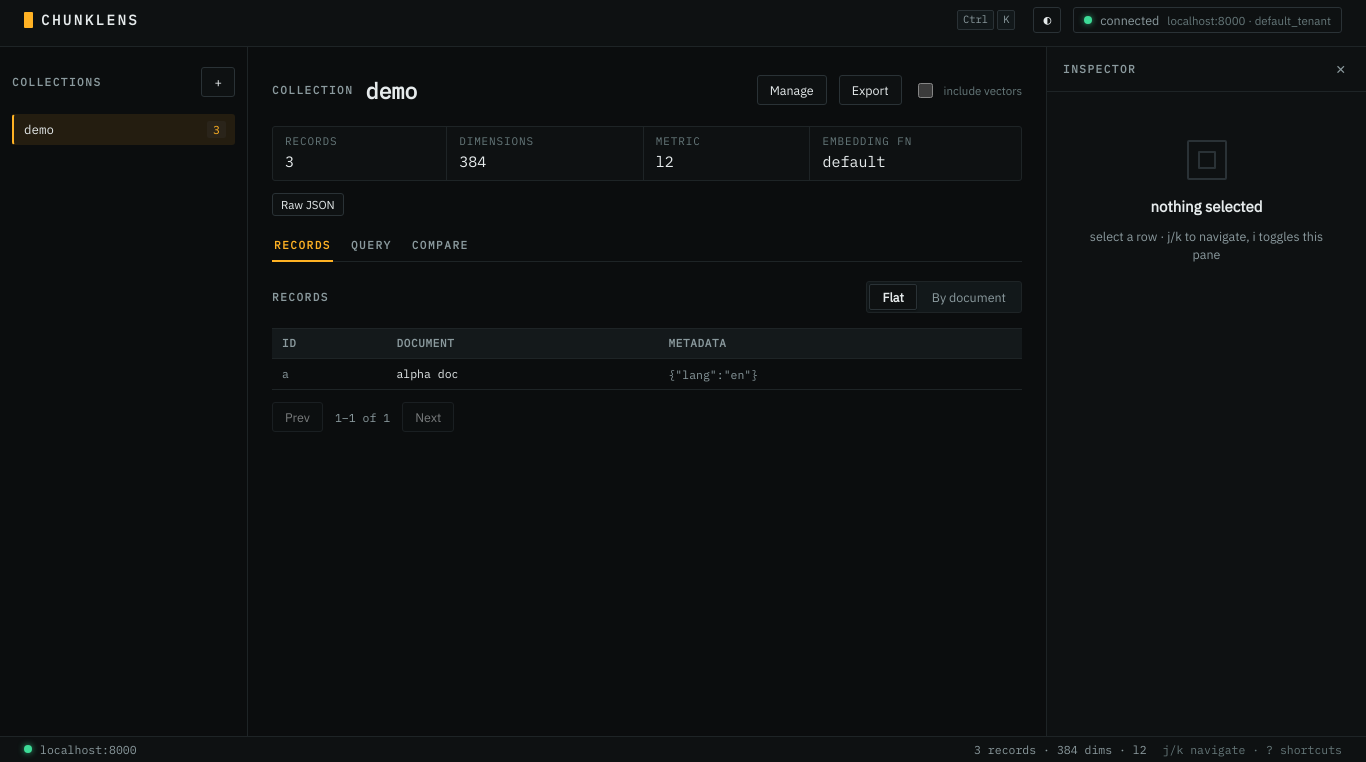
Test case: the view tabs switch between records, query, and compare
Expected: the table is shown, [272, 328, 1022, 390]
Click the tab "Query": [371, 246] box [349, 232, 394, 262]
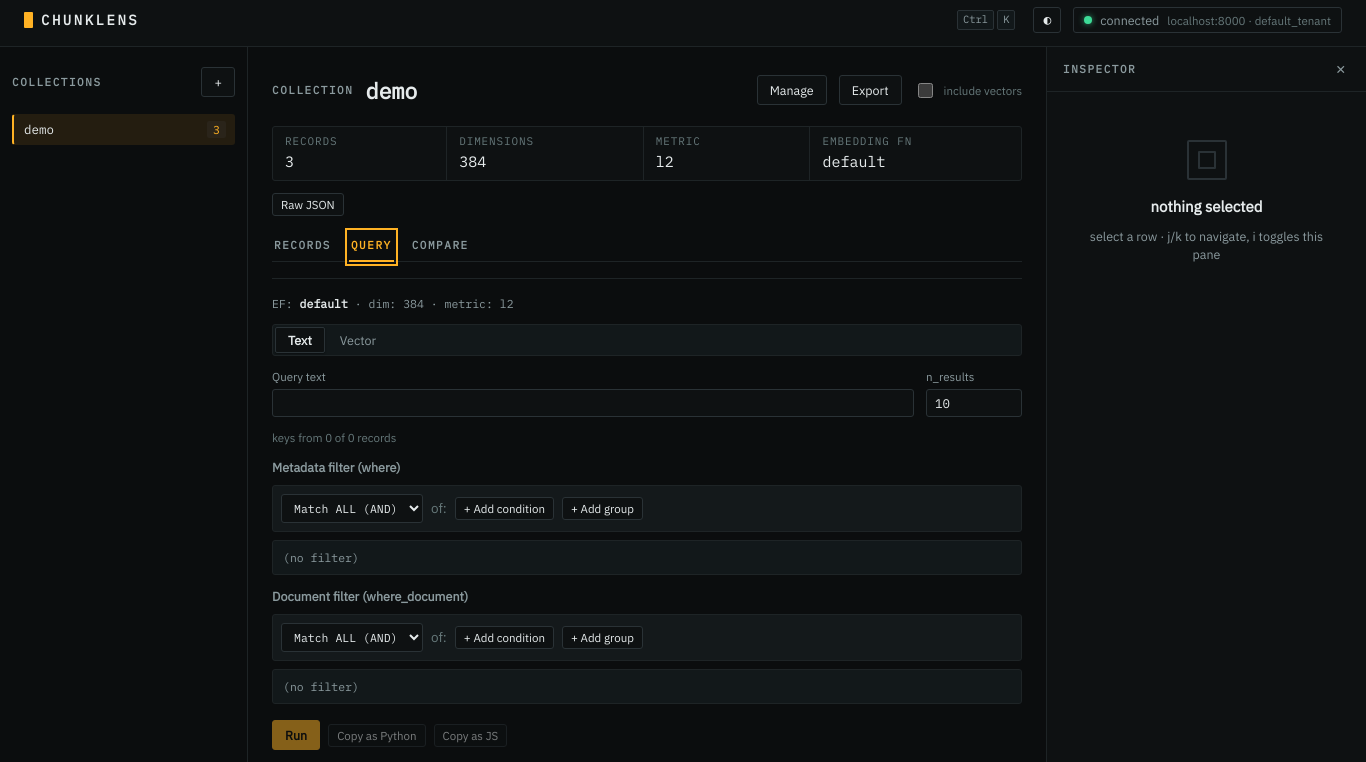
Result: the field labelled "Query text" is shown at [272, 389, 914, 417]
Click the tab "Compare": [440, 246] box [410, 232, 471, 262]
(page scrolled)
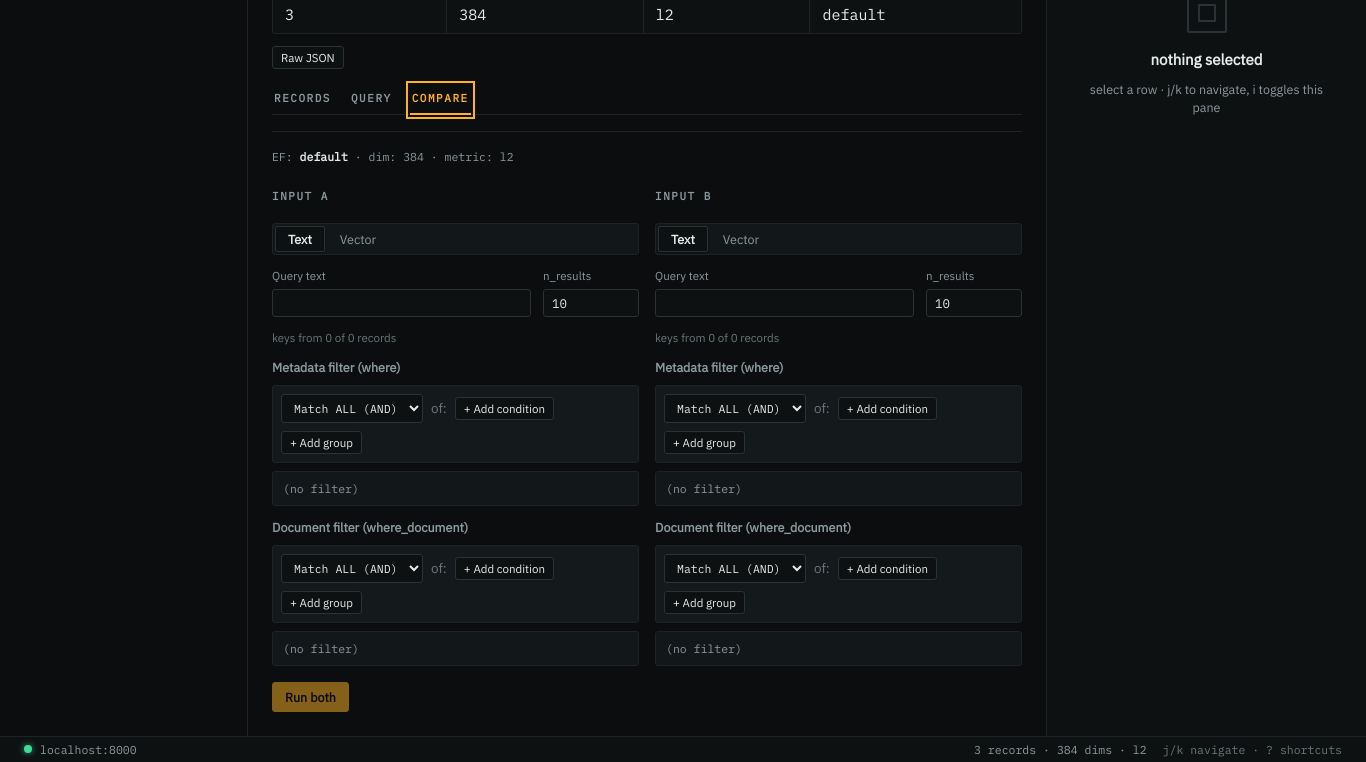
Result: the button "Run both" is shown at [272, 682, 349, 712]
